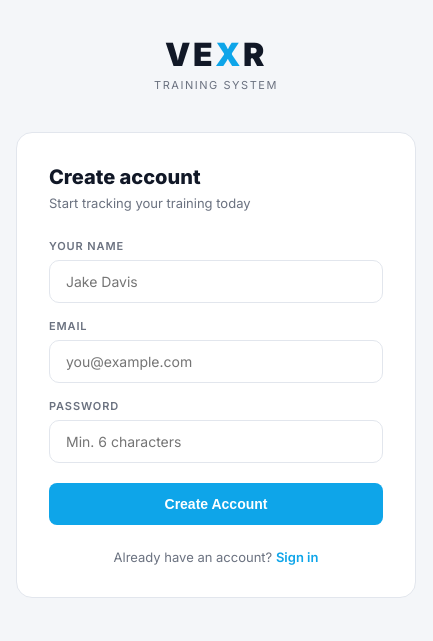
Scenario: Signup page › shows error when password is too short (client-side validation)
Type "Jacob" into the field with placeholder "Jake Davis" at (216, 281), box [49,260,383,302]
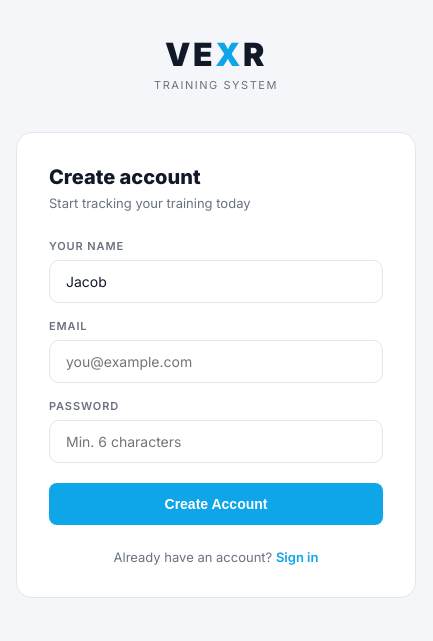
Type "jacob@example.com" into the field with placeholder "you@example.com" at (216, 361), box [49,340,383,382]
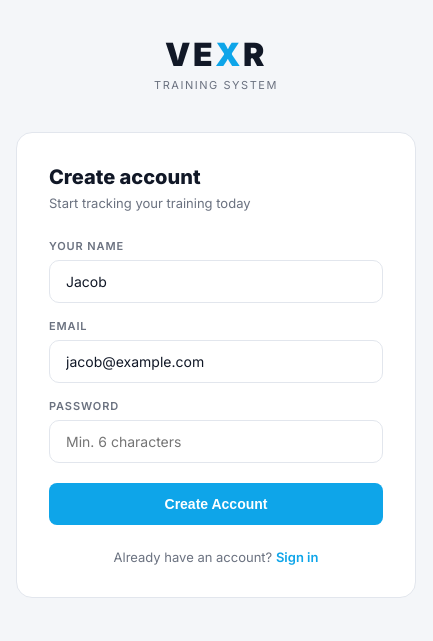
Type "abc" into the password field with placeholder "Min. 6 characters" at (216, 441), box [49,420,383,462]
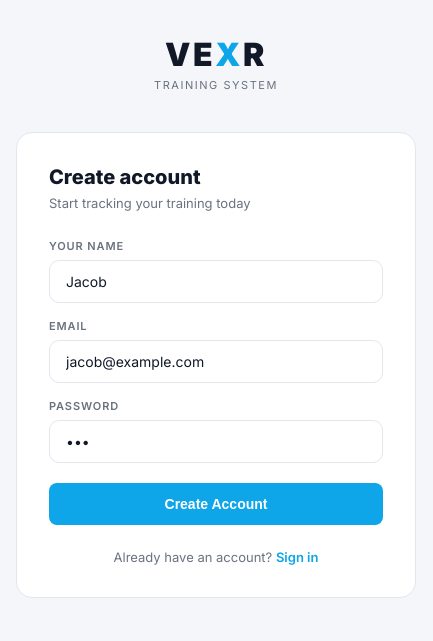
Click the button "Create Account" at (216, 504), box [49,482,383,524]
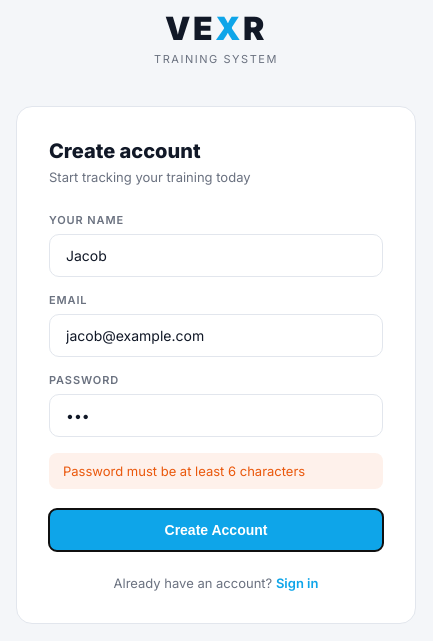
Now the text "Password must be at least 6 characters" is shown, box [49,452,383,488]
